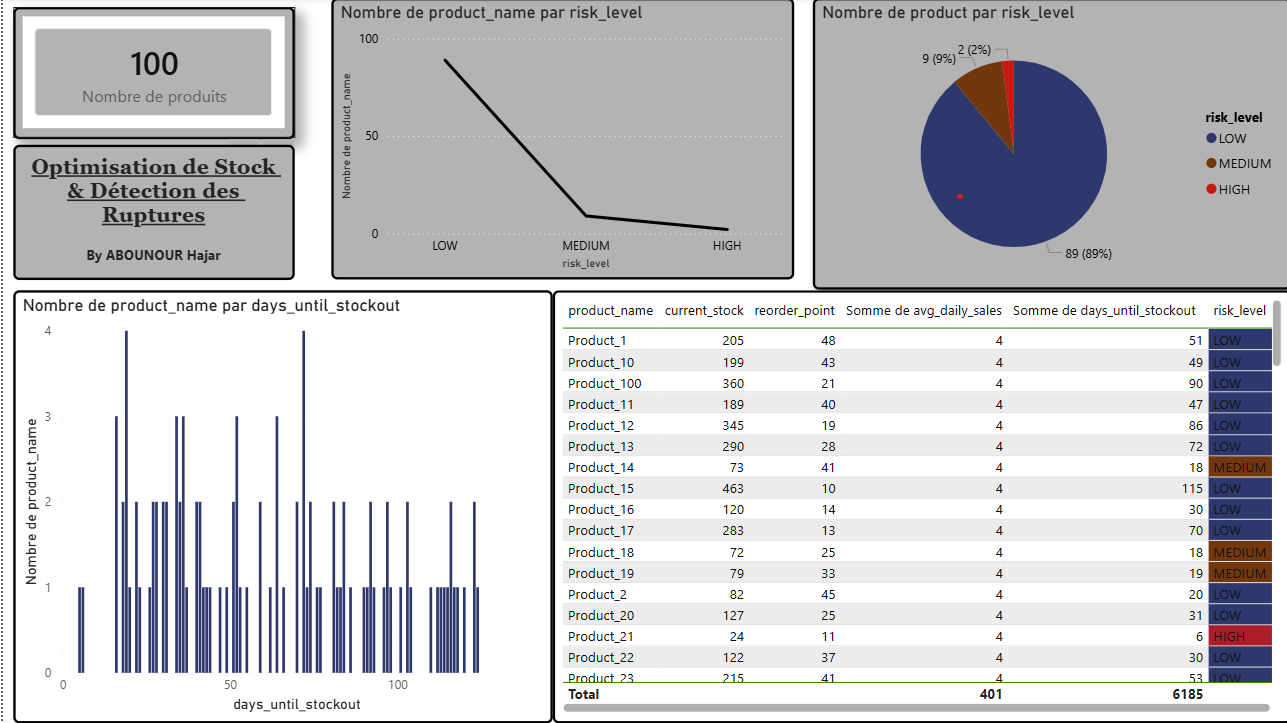

Layout of this report page (visuals, bound fields, positions):
{"tool":"powerbi","page":{"name":"Page 1","canvas":[1280,720],"ordinal":0},"visuals":[{"type":"cardVisual","fields":{"Data":["CountNonNull(stock_alerts.product_name)"]},"box":[10,8.6,280,131.4],"z":0},{"type":"pieChart","title":"Nombre de product par risk_level","fields":{"Category":["stock_alerts.risk_level"],"Y":["CountNonNull(stock_alerts.product_name)"]},"box":[804.3,0,475.7,290],"z":1},{"type":"clusteredColumnChart","fields":{"Category":["stock_alerts.days_until_stockout"],"Y":["CountNonNull(stock_alerts.product_name)"]},"box":[10,290,535.7,430],"z":2},{"type":"lineChart","fields":{"Category":["stock_alerts.risk_level"],"Y":["CountNonNull(stock_alerts.product_name)"]},"box":[325.7,0,460,280],"z":3},{"type":"tableEx","fields":{"Values":["stock_alerts.product_name","stock_alerts.current_stock","stock_alerts.reorder_point","Sum(stock_alerts.avg_daily_sales)","Sum(stock_alerts.days_until_stockout)","stock_alerts.risk_level"]},"box":[545.7,290,734.3,430],"z":4},{"type":"textbox","box":[10,145.7,280,134.3],"z":5}]}

Visuals, with their boxes in screenshot pixels (x1, y1, x2, y2), scaled from the page's 1280x720 canvas onto the 1287x723 screenshot:
cardVisual - CountNonNull(stock_alerts.product_name): 10/9/292/141
"Nombre de product par risk_level" pieChart: 809/0/1286/291
clusteredColumnChart - stock_alerts.days_until_stockout x CountNonNull(stock_alerts.product_name): 10/291/549/722
lineChart - stock_alerts.risk_level x CountNonNull(stock_alerts.product_name): 327/0/790/281
tableEx - stock_alerts.product_name x stock_alerts.current_stock: 549/291/1286/722
textbox: 10/146/292/281
